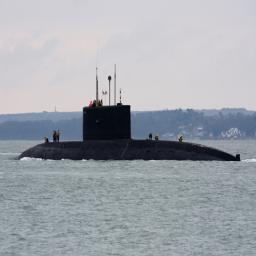submarine: (9, 105, 243, 162)
